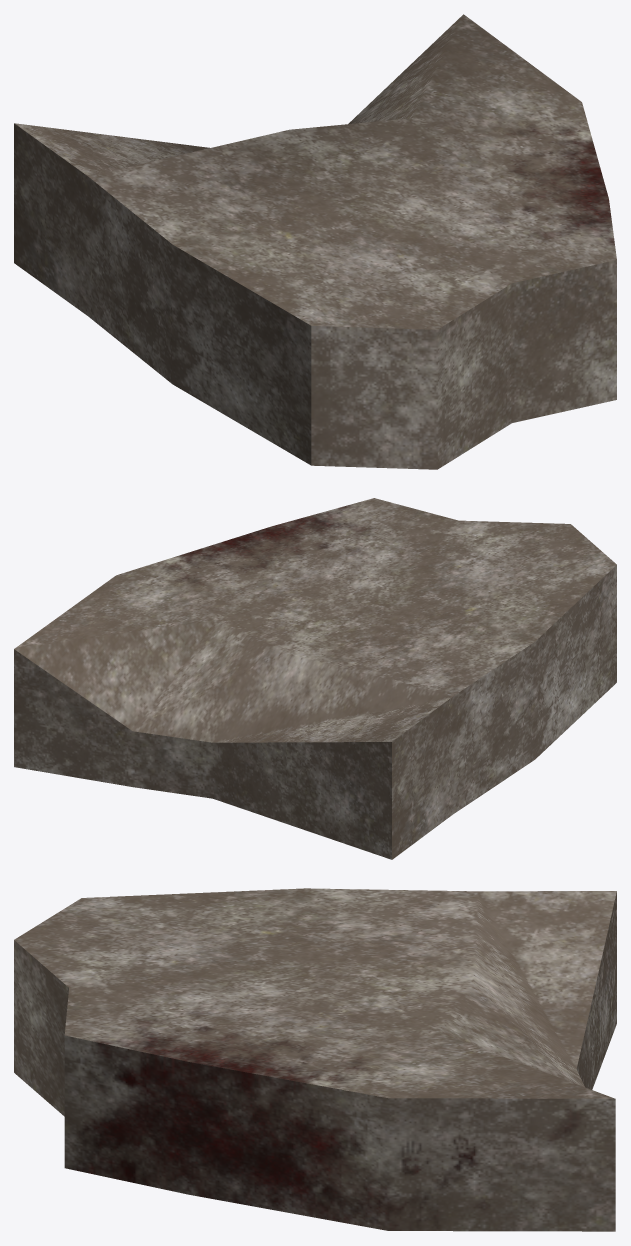
Rendered from PiedraPoste.obj.
3 renders of one model, top to bottom at view 1: azimuth 30°, elevation 25°; view 2: azimuth 150°, elevation 25°; view 3: azimuth 270°, elevation 25°, orthographic. The views are drawn at different scales.
Parts seen in each view (by area): view 1: Box135; view 2: Box135; view 3: Box135.
Boxes of the visible parts, x1=… form: Box135: x1=14, y1=14, x2=616, y2=469; Box135: x1=14, y1=498, x2=616, y2=859; Box135: x1=14, y1=888, x2=616, y2=1231.
Bounding box in the file's own units: 23.26 × 6.84 × 28.17.
Materials: 1 (1 with a texture image).
